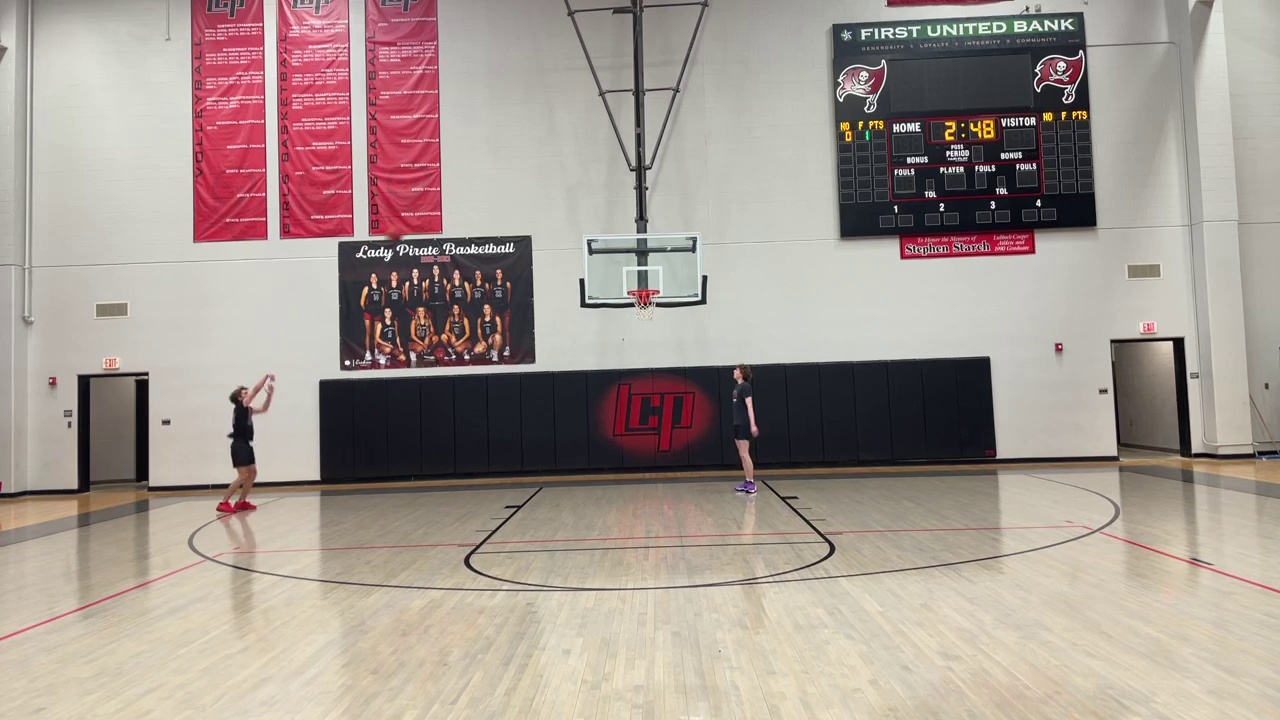shooting player: (222, 368, 276, 516)
